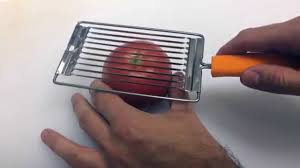tomato: (104, 41, 173, 105)
